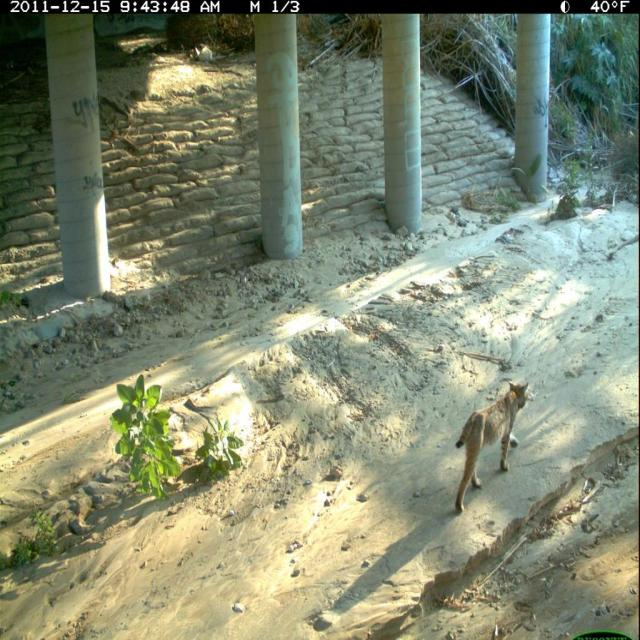bobcat: (451, 376, 535, 519)
